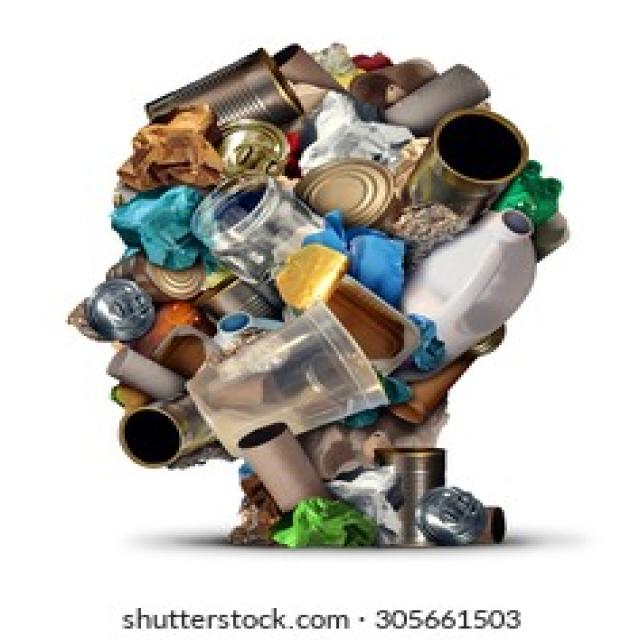metal: (382, 455, 472, 546), (225, 68, 304, 167), (106, 263, 206, 338)
plastic: (423, 228, 523, 343), (250, 340, 364, 420)
